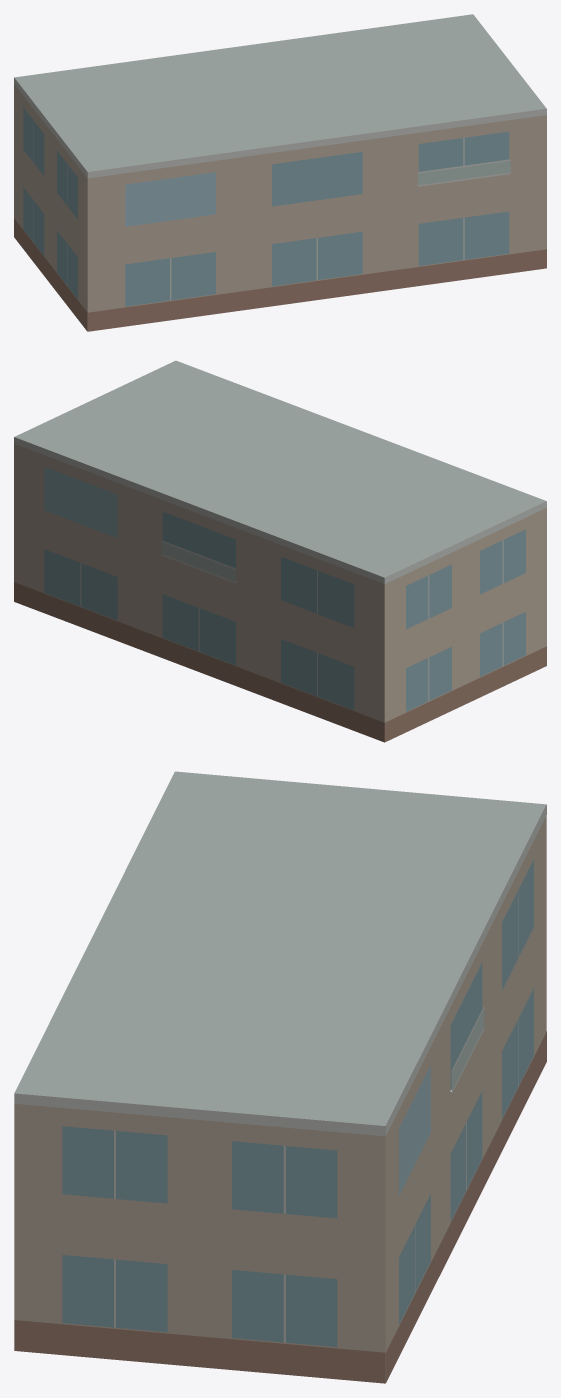
Rendered from survey-upis-32701569.glb.
3 renders of one model, top to bottom at view 1: azimuth 30°, elevation 25°; view 2: azimuth 150°, elevation 25°; view 3: azimuth 270°, elevation 25°, orthographic. The views are drawn at different scales.
Visible parts, largest first — view 1: survey-upis-32701569.tmp; view 2: survey-upis-32701569.tmp; view 3: survey-upis-32701569.tmp.
Boxes of the visible parts, bbox=[...] form: survey-upis-32701569.tmp: bbox=[14, 14, 546, 331]; survey-upis-32701569.tmp: bbox=[14, 360, 546, 742]; survey-upis-32701569.tmp: bbox=[14, 771, 546, 1383].
Bounding box in the file's own units: 18.04 × 6.1 × 11.45.
